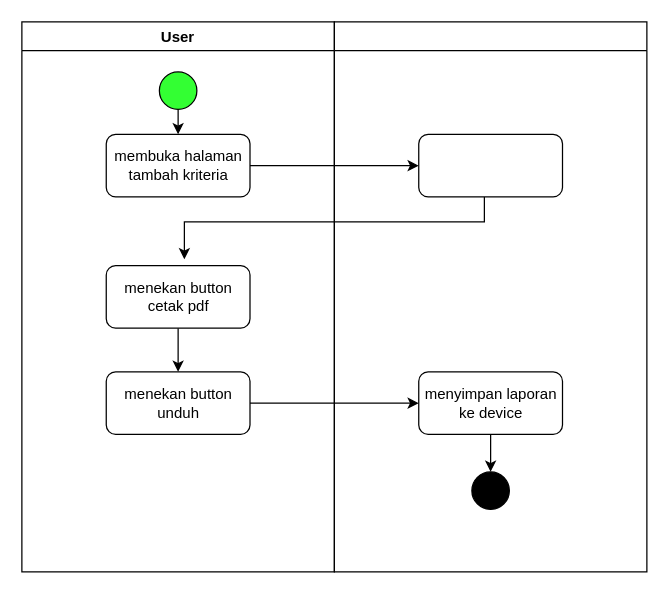
Image size: 669x594. Some labels were removed from this diagram. Here are the shapes that lost their labels. From the top down, the box of each, then its label:
(418, 133, 562, 197): menampilkan hasil penilaian
(333, 21, 647, 572): System
